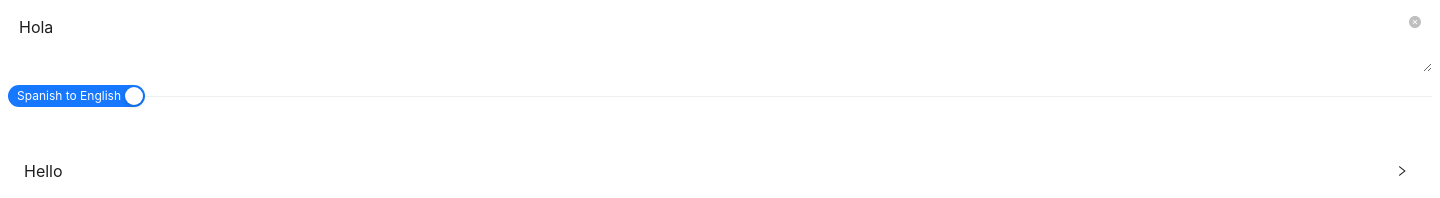
Translator › swap translation direction › requests a translation in the opposite direction when swap is clicked
This screenshot has width=1440, height=198.
Step 1. Click the switch labelled "Spanish to English English to Spanish" → point(76, 96), box [8, 85, 145, 107]
Wait 301 ms
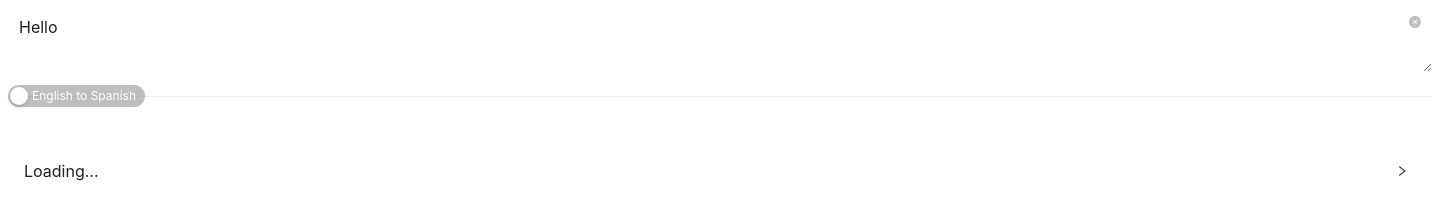
Expected: the text "Loading..." is shown, [24, 161, 98, 181]
